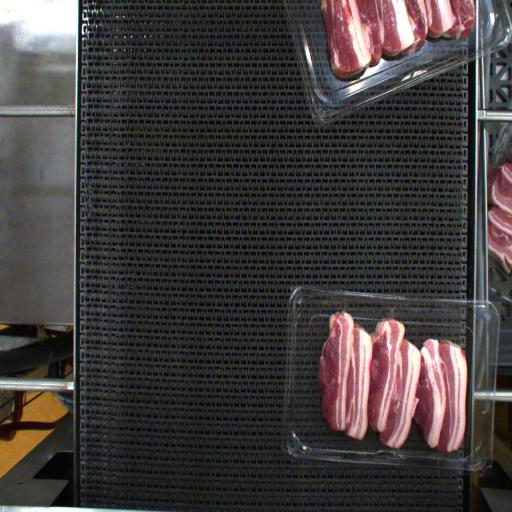packaging-error: (335, 296, 350, 317), (383, 306, 400, 318)
